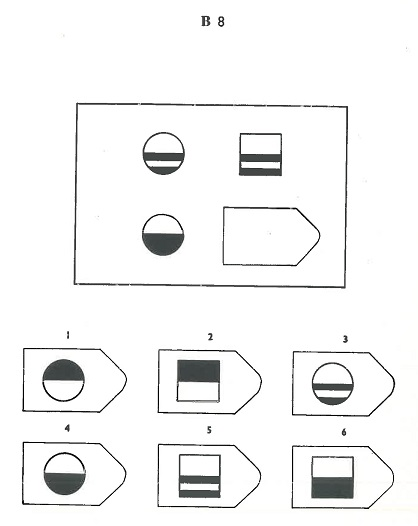Array 1: (19, 326, 129, 417)
Array 2: (152, 329, 265, 417)
Array 3: (287, 332, 398, 420)
Array 4: (17, 421, 131, 508)
Array 5: (153, 420, 264, 511)
Array 6: (288, 423, 399, 514)
Matrix 1: (136, 125, 188, 179)
Matrix 2: (232, 125, 289, 184)
Matrix 3: (133, 204, 188, 259)
Matrix Unknown: (217, 202, 323, 270)
